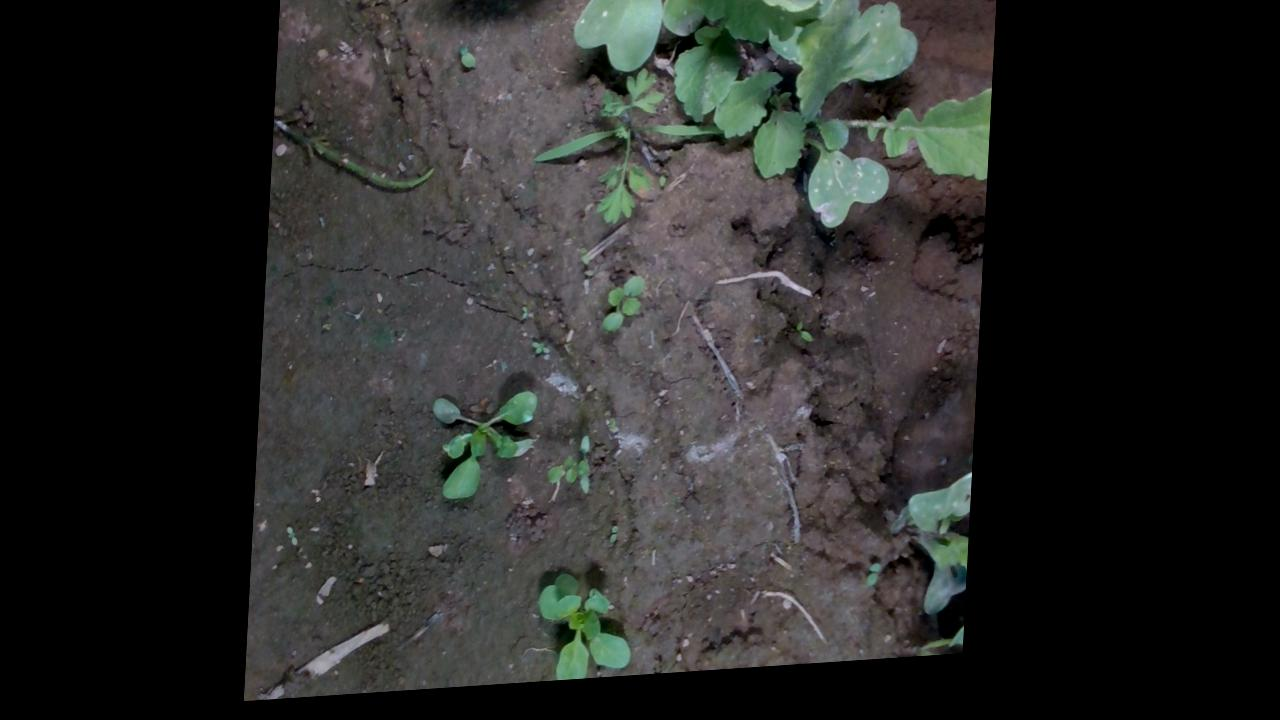weed: (606, 280, 650, 341), (798, 329, 820, 354), (872, 574, 890, 601), (533, 346, 556, 362), (615, 532, 628, 555)
